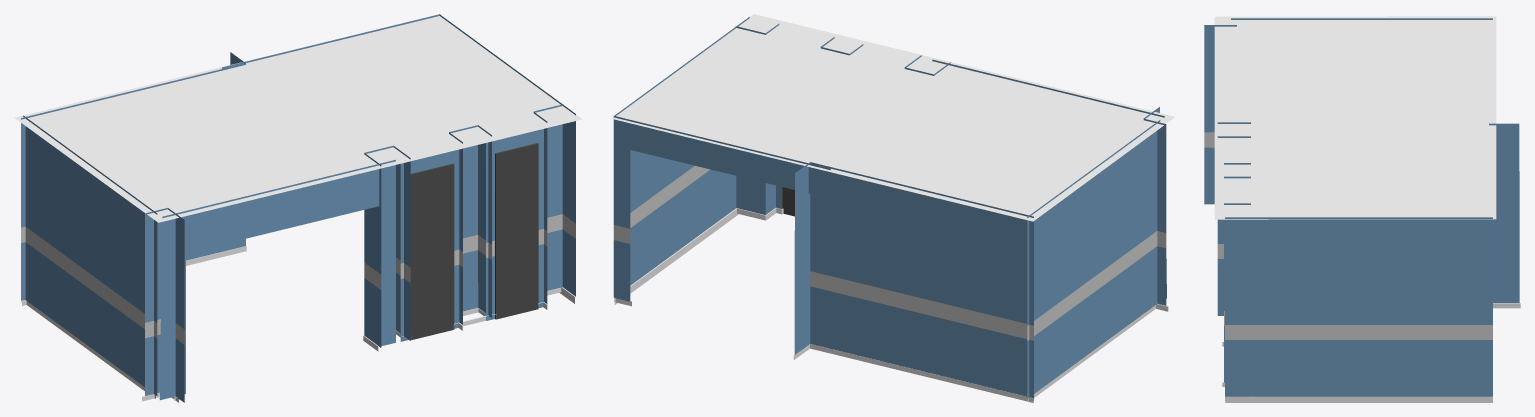
The model's file is SM_H_Building_Tide_PrisonMainInter_08_ATLAS.fbx.
3 views of the same model, side by side, from view 1: azimuth 30°, elevation 25°; view 2: azimuth 150°, elevation 25°; view 3: azimuth 270°, elevation 25° (orthographic). The views are drawn at different scales.
Parts seen in each view (by area): view 1: SM_H_Building_Tide_PrisonMainInter_08_ATLAS; view 2: SM_H_Building_Tide_PrisonMainInter_08_ATLAS; view 3: SM_H_Building_Tide_PrisonMainInter_08_ATLAS.
Boxes of the visible parts, x1=… form: SM_H_Building_Tide_PrisonMainInter_08_ATLAS: x1=14, y1=14, x2=581, y2=402; SM_H_Building_Tide_PrisonMainInter_08_ATLAS: x1=611, y1=14, x2=1174, y2=402; SM_H_Building_Tide_PrisonMainInter_08_ATLAS: x1=1204, y1=16, x2=1520, y2=402.
Size of the model in its own units: 1162 by 757 by 492.
